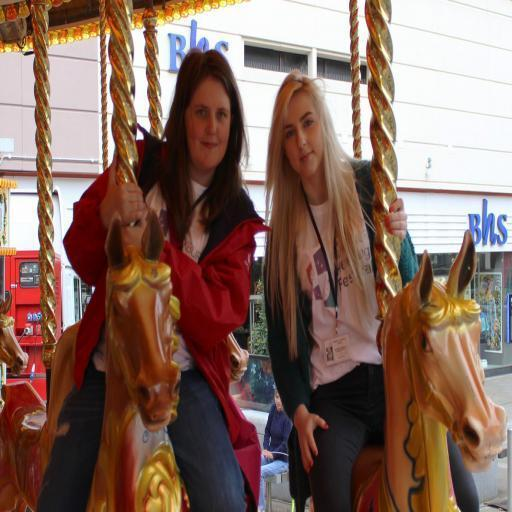horse: (0, 207, 190, 511), (310, 228, 510, 512), (0, 290, 30, 384)
